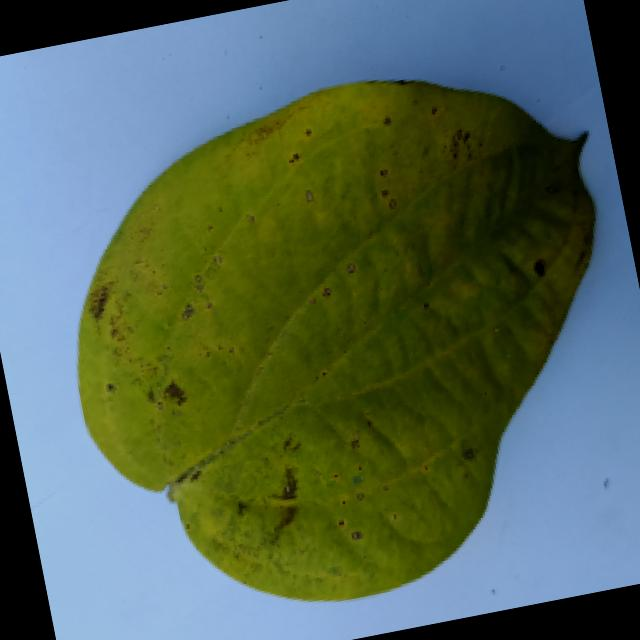slow-decline: (13, 35, 640, 638)
